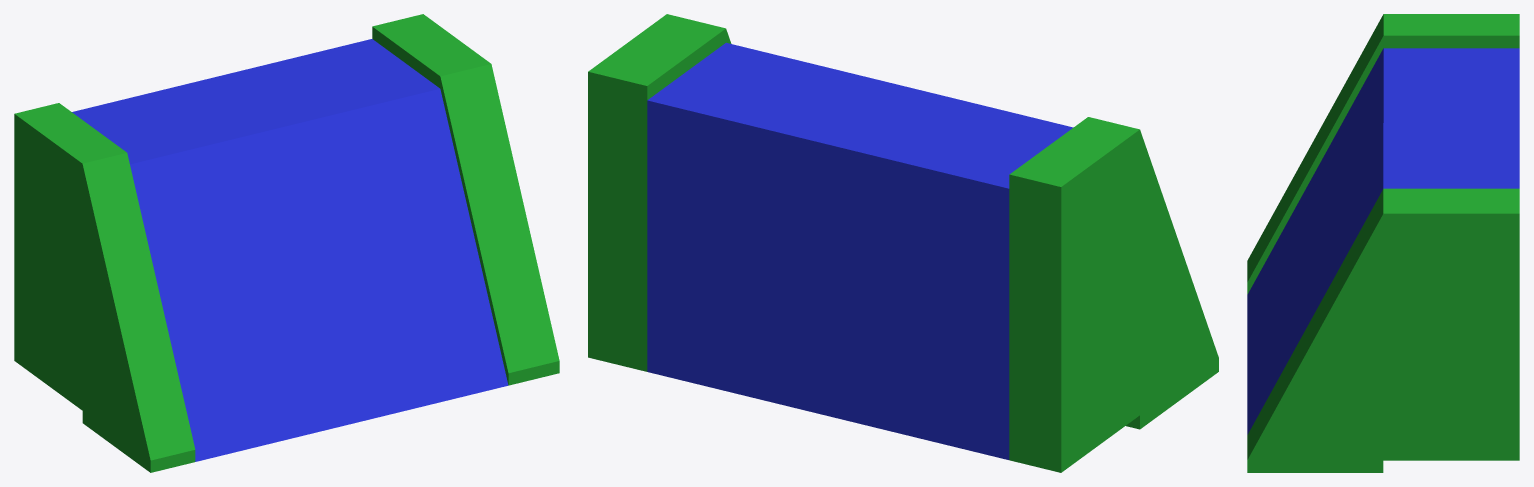
File: cliff-right-river_edge.glb
3 renders of one model, left to right at view 1: azimuth 30°, elevation 25°; view 2: azimuth 150°, elevation 25°; view 3: azimuth 270°, elevation 25°, orthographic. The views are drawn at different scales.
Parts seen in each view (by area): view 1: cliff-right-river_edge; view 2: cliff-right-river_edge; view 3: cliff-right-river_edge.
Part boxes in pixels (bbox=[...]): cliff-right-river_edge: bbox=[14, 14, 559, 472]; cliff-right-river_edge: bbox=[588, 14, 1218, 472]; cliff-right-river_edge: bbox=[1247, 14, 1519, 472].
Bounding box in the file's own units: 0.866 × 0.525 × 0.5.
